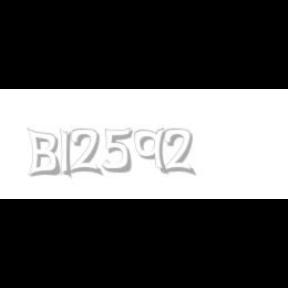2: (67, 128, 101, 176), (160, 128, 194, 176)
5: (102, 128, 132, 174)
B: (26, 128, 60, 178)
l: (60, 128, 76, 180)
q: (134, 128, 170, 176)
